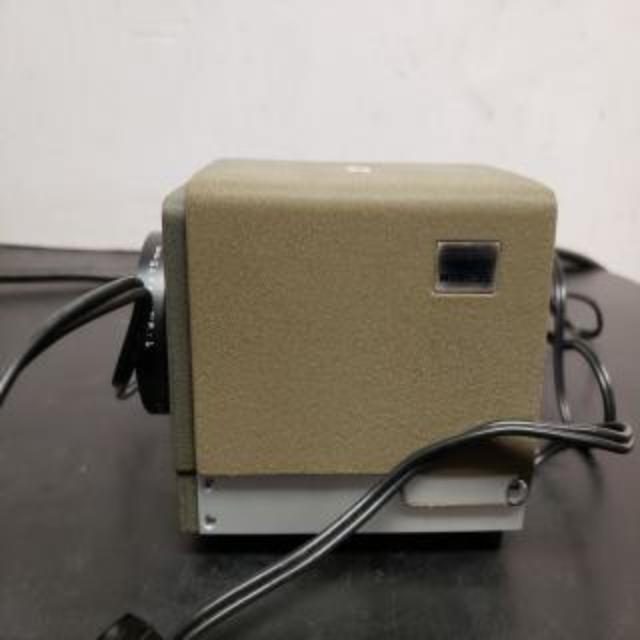Projector: (136, 158, 560, 536)
